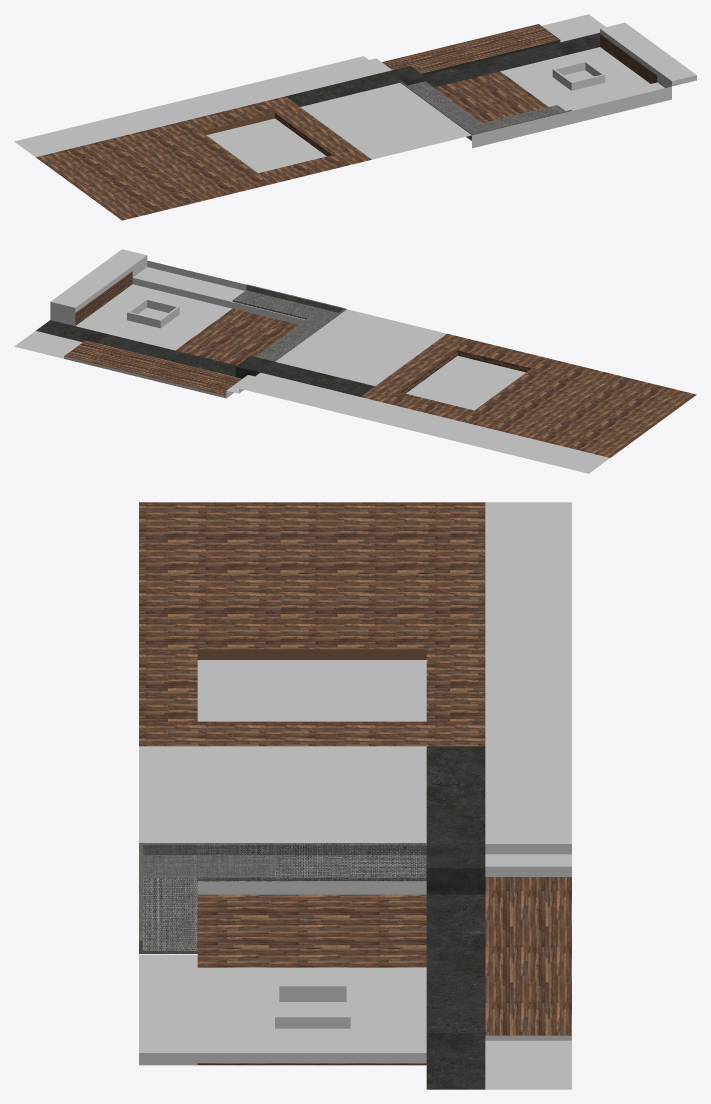
Rendered from piscina_estancia.obj.
3 renders of one model, top to bottom at view 1: azimuth 30°, elevation 25°; view 2: azimuth 150°, elevation 25°; view 3: azimuth 270°, elevation 25°, orthographic. The views are drawn at different scales.
Visible parts, largest first — view 1: duela_Plane.003, piso_gris_Plane.006, loceta_blanca_Plane.007, pasillo_gris_Plane.005, agua_Plane.001, Sillones_Plane; view 2: duela_Plane.003, piso_gris_Plane.006, loceta_blanca_Plane.007, pasillo_gris_Plane.005, agua_Plane.001, Sillones_Plane; view 3: duela_Plane.003, piso_gris_Plane.006, loceta_blanca_Plane.007, pasillo_gris_Plane.005, Sillones_Plane, agua_Plane.001.
Boxes of the visible parts, left/top/right/bottom form: duela_Plane.003: left=36, top=24, right=657, bottom=220; piso_gris_Plane.006: left=14, top=14, right=696, bottom=157; loceta_blanca_Plane.007: left=300, top=83, right=471, bottom=159; pasillo_gris_Plane.005: left=286, top=32, right=599, bottom=106; agua_Plane.001: left=206, top=118, right=326, bottom=172; Sillones_Plane: left=400, top=81, right=571, bottom=140; duela_Plane.003: left=64, top=271, right=696, bottom=457; piso_gris_Plane.006: left=14, top=249, right=609, bottom=473; loceta_blanca_Plane.007: left=275, top=309, right=446, bottom=385; pasillo_gris_Plane.005: left=36, top=320, right=374, bottom=396; agua_Plane.001: left=406, top=355, right=525, bottom=410; Sillones_Plane: left=232, top=284, right=346, bottom=361; duela_Plane.003: left=139, top=502, right=571, bottom=1065; piso_gris_Plane.006: left=139, top=502, right=571, bottom=1089; loceta_blanca_Plane.007: left=139, top=746, right=426, bottom=842; pasillo_gris_Plane.005: left=426, top=746, right=485, bottom=1089; Sillones_Plane: left=139, top=843, right=426, bottom=953; agua_Plane.001: left=197, top=660, right=426, bottom=721.
Size of the model in its own units: 23 by 0.7 by 7.5.
